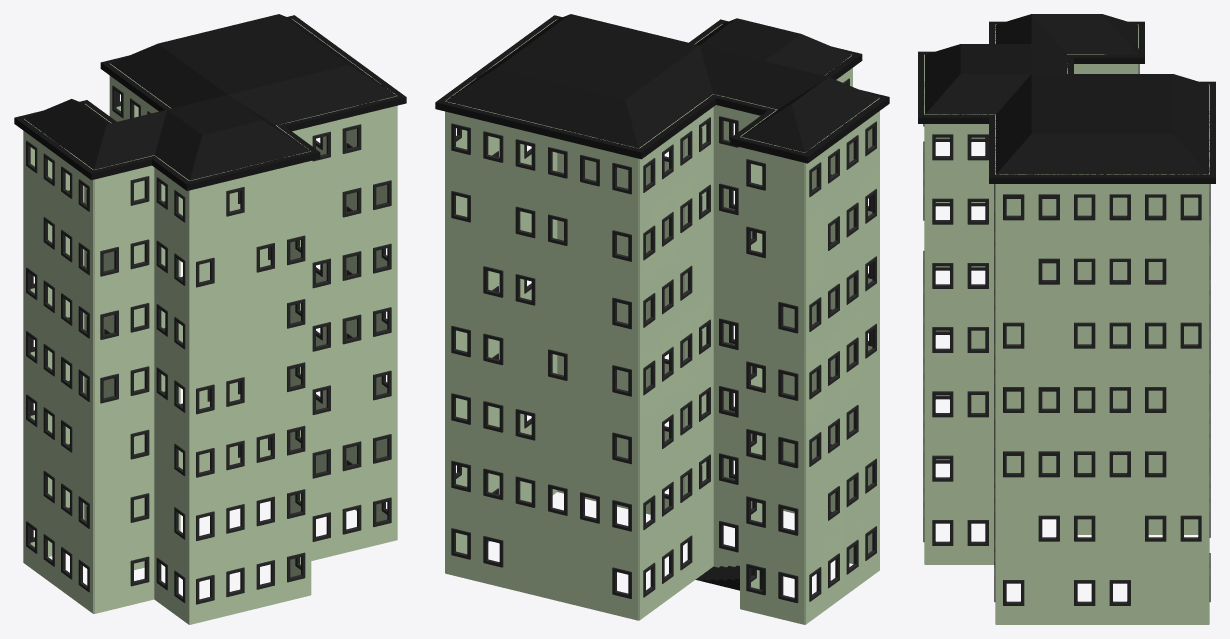
Rendered from big_house_02.fbx.
3 views of the same model, side by side, from view 1: azimuth 30°, elevation 25°; view 2: azimuth 150°, elevation 25°; view 3: azimuth 270°, elevation 25° (orthographic). The views are drawn at different scales.
Visible parts, largest first — view 1: house2_W; view 2: house2_W; view 3: house2_W.
Part boxes in pixels (x1=…): house2_W: x1=14, y1=14, x2=406, y2=624; house2_W: x1=435, y1=14, x2=889, y2=624; house2_W: x1=918, y1=14, x2=1215, y2=624.
Size of the model in its own units: 841 by 1197 by 679.
